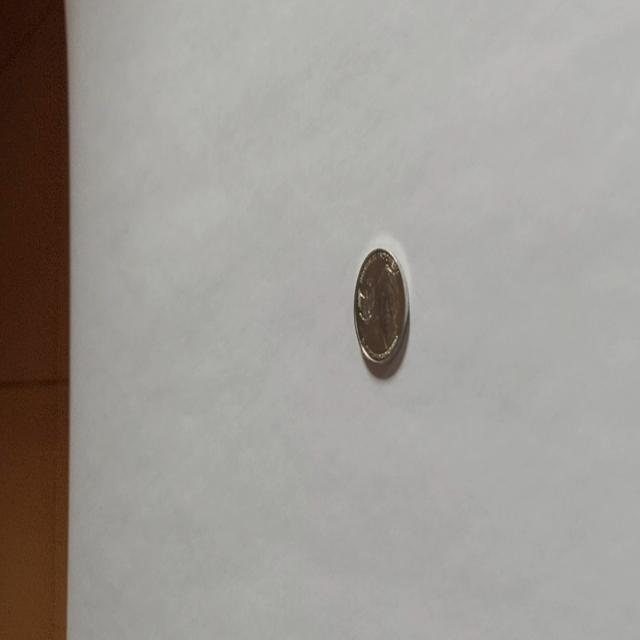dua ratus rupiah: (352, 245, 410, 367)
